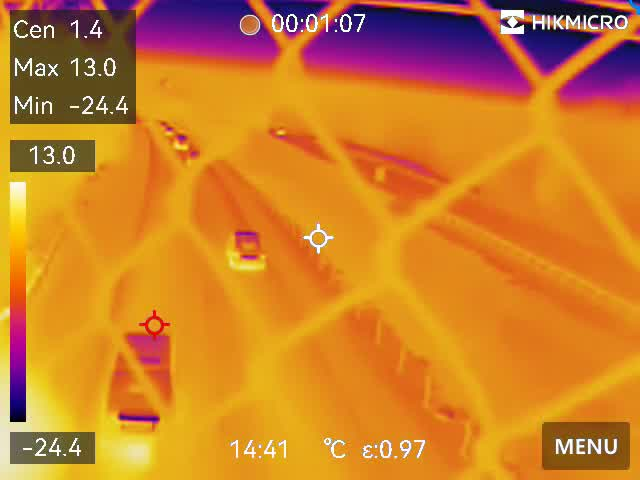vehicle: (105, 324, 178, 445), (226, 224, 268, 275), (170, 134, 188, 153)
